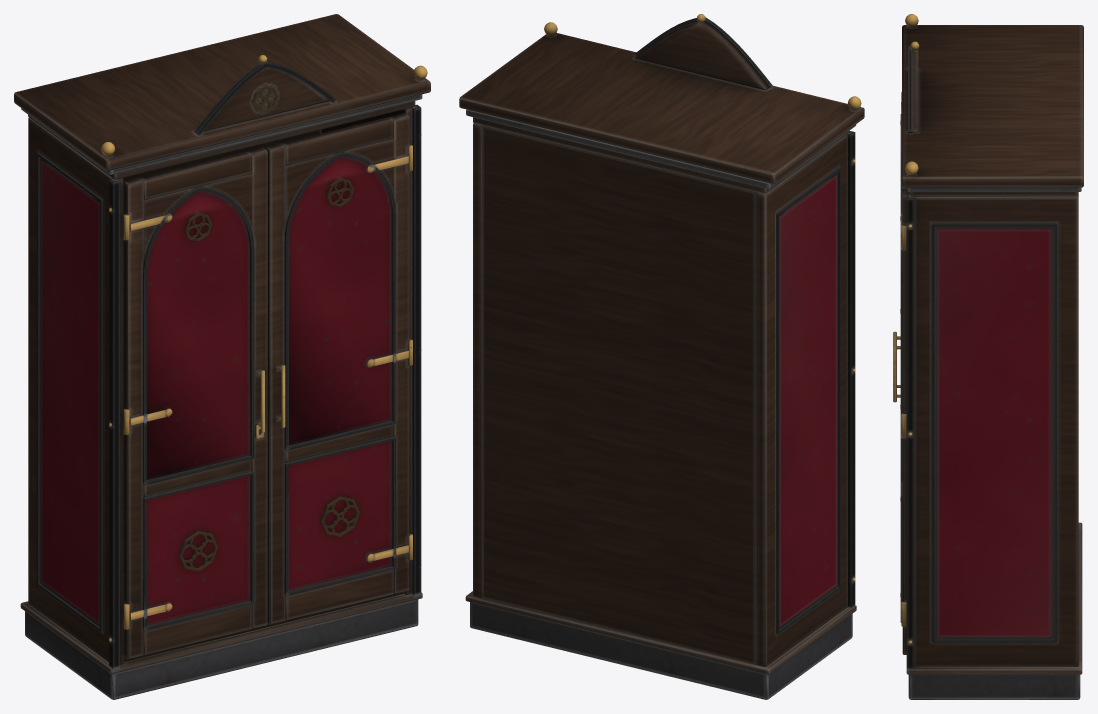
The model's file is DormWardrobe.fbx.
The picture shows the model from 3 angles, left to right: view 1: azimuth 30°, elevation 25°; view 2: azimuth 150°, elevation 25°; view 3: azimuth 270°, elevation 25°; orthographic projection. The views are drawn at different scales.
Parts seen in each view (by area): view 1: DormWardrobe; view 2: DormWardrobe; view 3: DormWardrobe.
Part boxes in pixels (x1,y1,x2,y2): DormWardrobe: [14, 14, 430, 699]; DormWardrobe: [459, 14, 864, 699]; DormWardrobe: [893, 14, 1083, 699].
Bounding box in the file's own units: 474 × 846 × 250.
